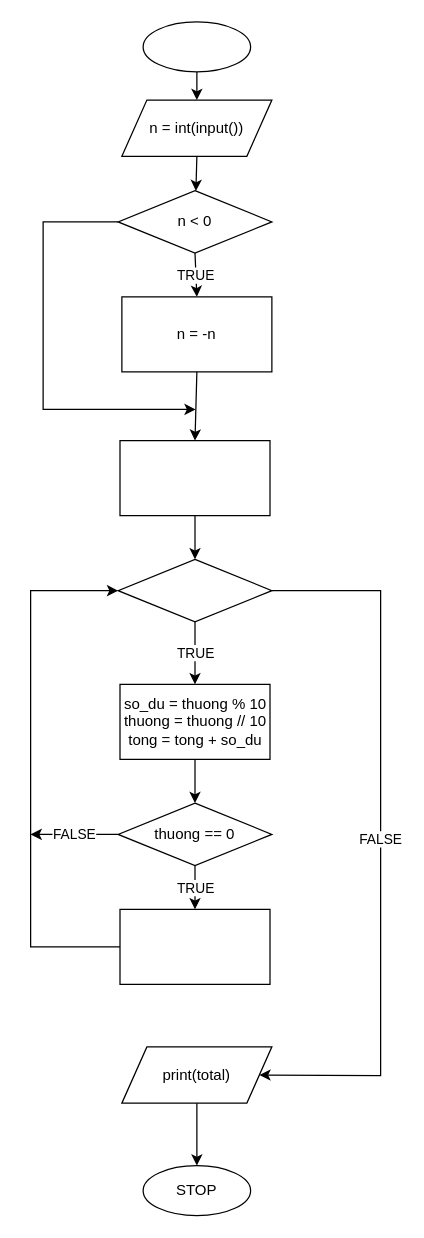
Some shapes in this 424 by 1238 pixel diagram are drawn without their labels. The box of each missing label's shape, as (x1, y1, x2, y2) in pixels:
break: (119, 908, 270, 984)
START: (142, 21, 251, 72)
tong = 0 thuong = n: (119, 439, 270, 516)
while True: (117, 558, 272, 622)
